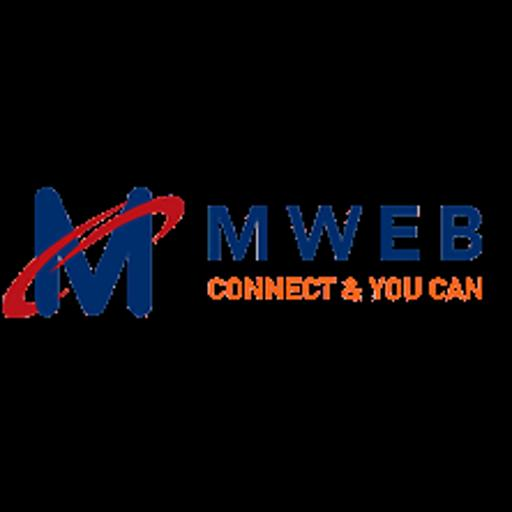MWeb: (0, 171, 512, 341)
